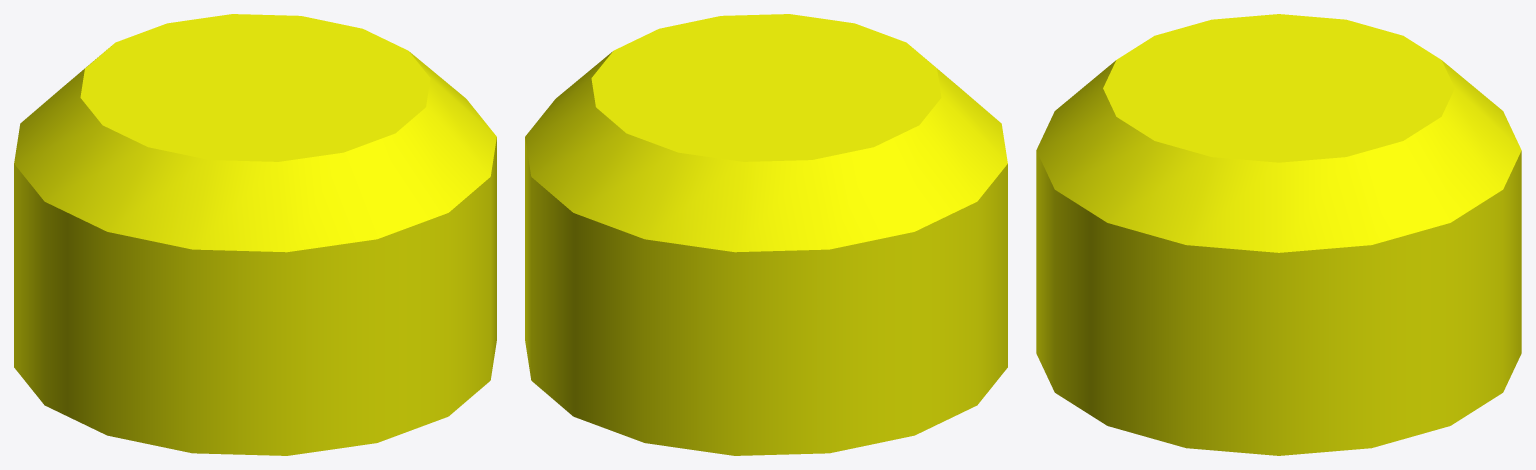
The model's file is Path_connect.fbx.
3 views of the same model, side by side, from view 1: azimuth 30°, elevation 25°; view 2: azimuth 150°, elevation 25°; view 3: azimuth 270°, elevation 25° (orthographic).
Parts seen in each view (by area): view 1: Path_connect; view 2: Path_connect; view 3: Path_connect.
Part boxes in pixels (bbox=[...]): Path_connect: bbox=[14, 14, 496, 455]; Path_connect: bbox=[525, 14, 1007, 455]; Path_connect: bbox=[1036, 14, 1521, 455].
Size of the model in its own units: 16.61 by 10.01 by 16.61.
